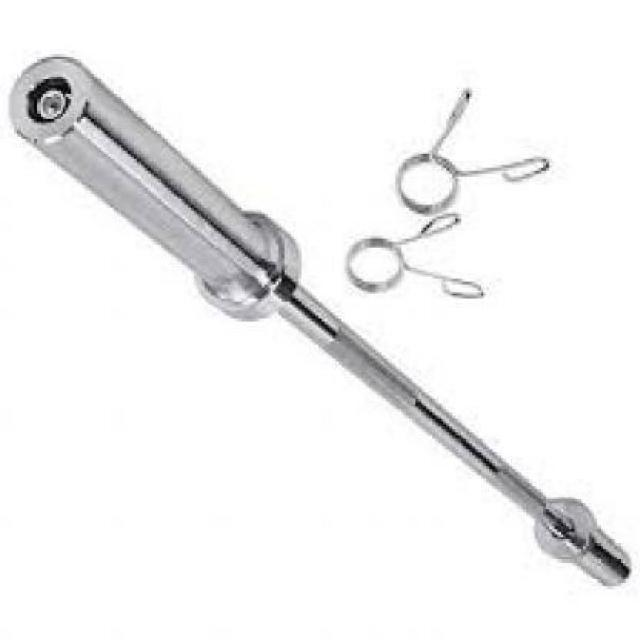Barbell: (5, 51, 106, 150)
